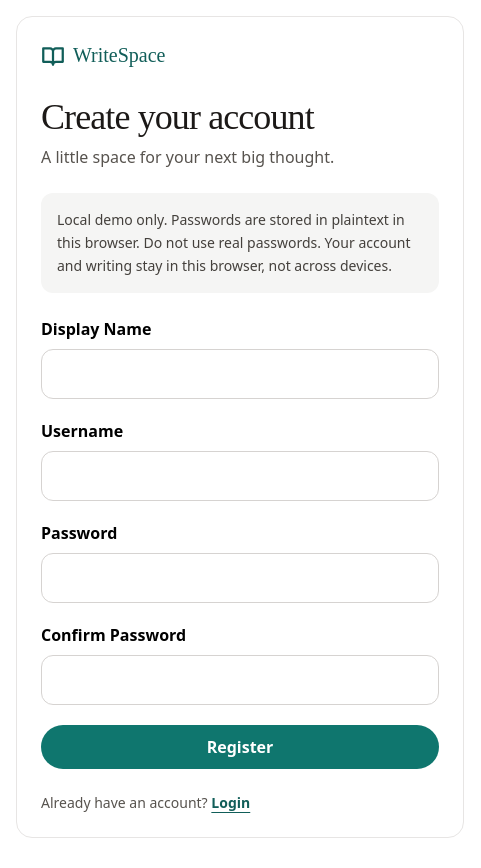
Test: identity forms and destinations › shows browser write failure on submitted /register without leaving the form
Type "Mira" into the field labelled "Display Name".
click(240, 374); type("Mira")  # box [41,349,439,399]
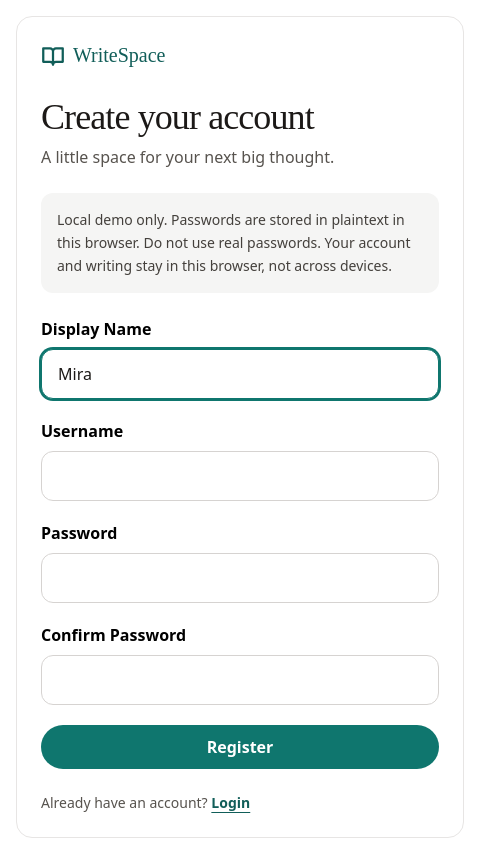
Type "mira" into the field labelled "Username".
click(240, 476); type("mira")  # box [41,451,439,501]
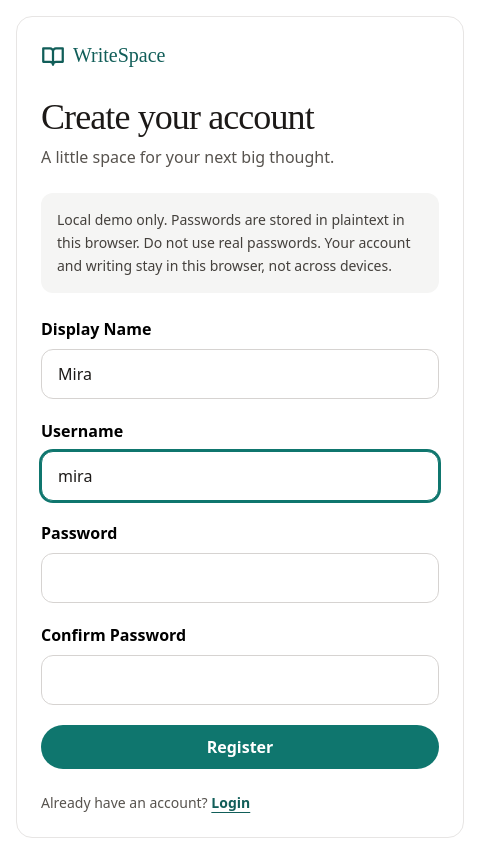
Type "demo-only" into the password field labelled "Password".
click(240, 578); type("demo-only")  # box [41,553,439,603]
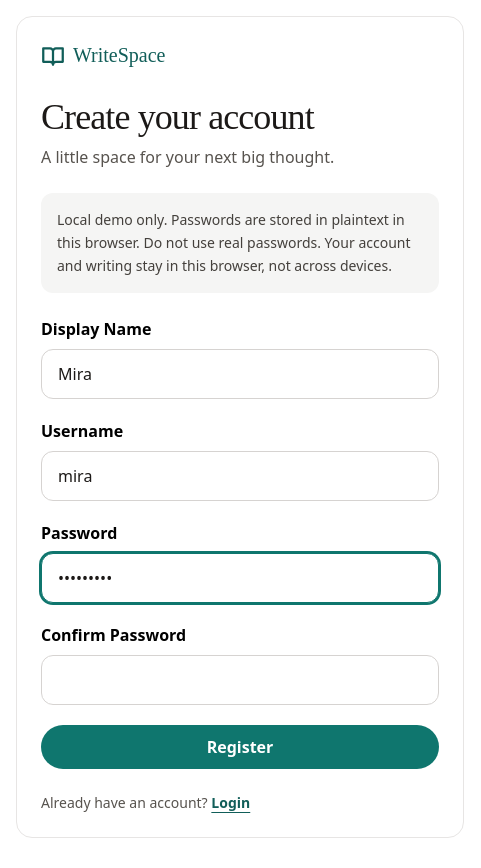
Type "demo-only" into the password field labelled "Confirm Password".
click(240, 680); type("demo-only")  # box [41,655,439,705]
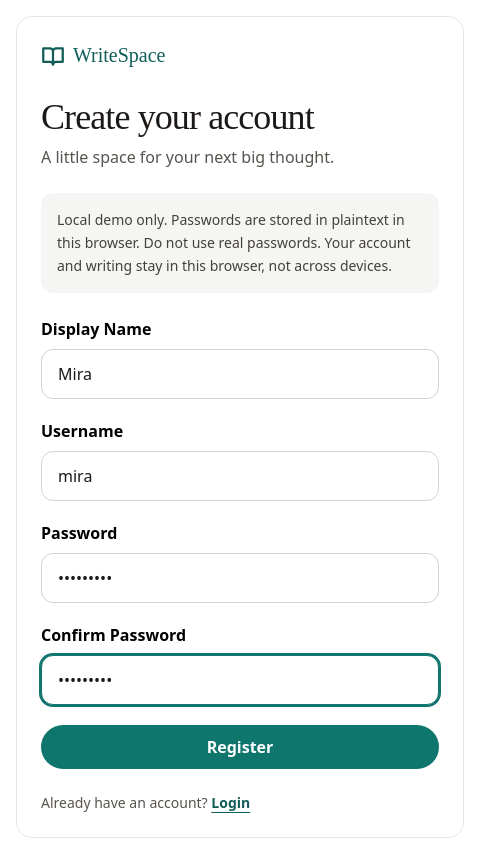
Click the button "Register".
click(240, 747)  # box [41,725,439,769]
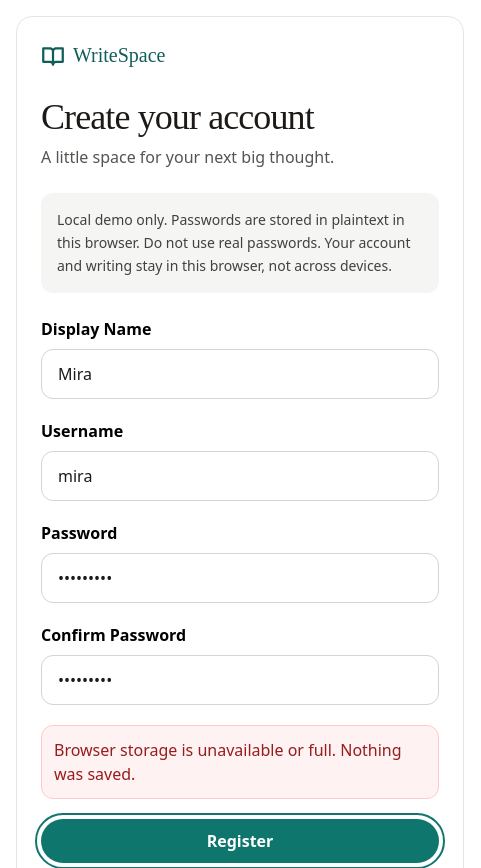
Result: the message shows "Browser storage" at [54,739,402,785]
